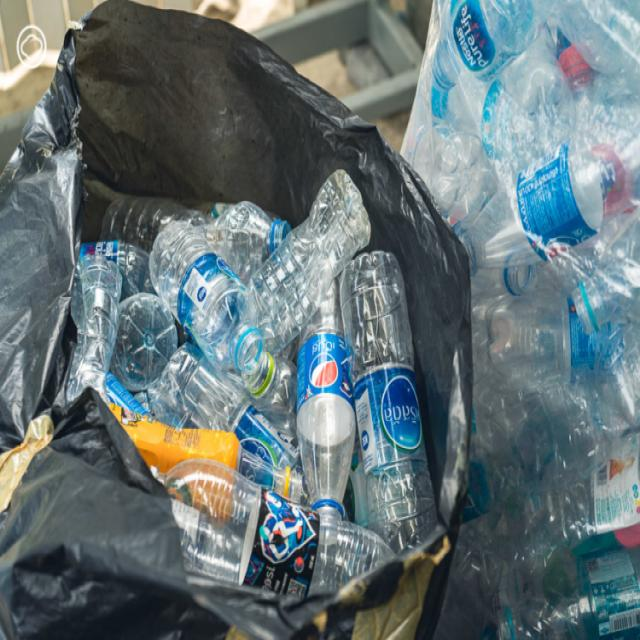Single-layer Plastic: (0, 2, 471, 638)
